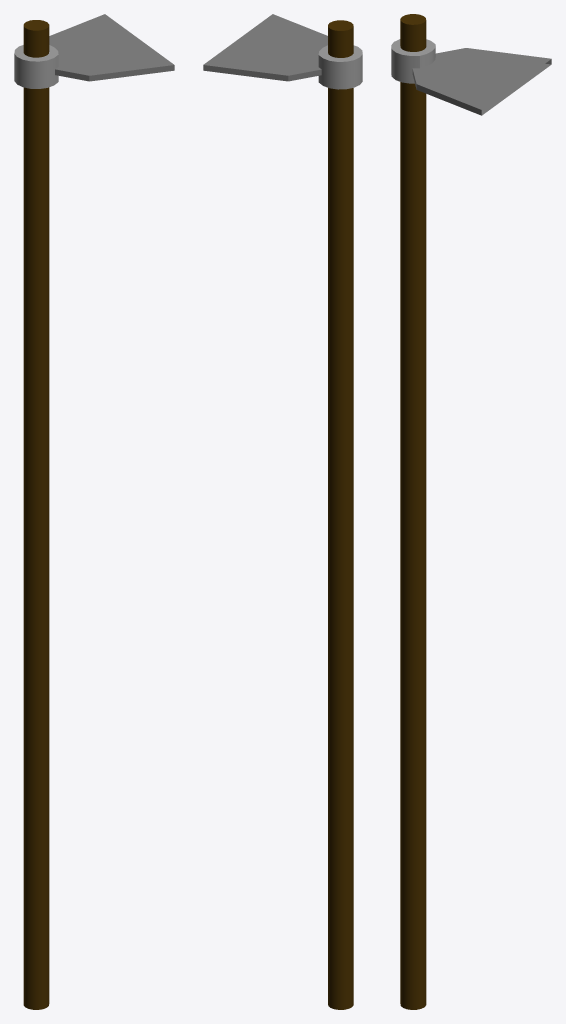
The model's file is Enxada.fbx.
3 renders of one model, left to right at view 1: azimuth 30°, elevation 25°; view 2: azimuth 150°, elevation 25°; view 3: azimuth 330°, elevation 25°, orthographic.
Visible parts, largest first — view 1: Enxada; view 2: Enxada; view 3: Enxada.
Part boxes in pixels (box(x1,y1,x2,y2)): Enxada: box(14, 14, 174, 1009); Enxada: box(203, 14, 362, 1009); Enxada: box(391, 14, 551, 1009).
Size of the model in its own units: 6.48 by 49.53 by 6.38.
Materials: 1 (1 with a texture image).
